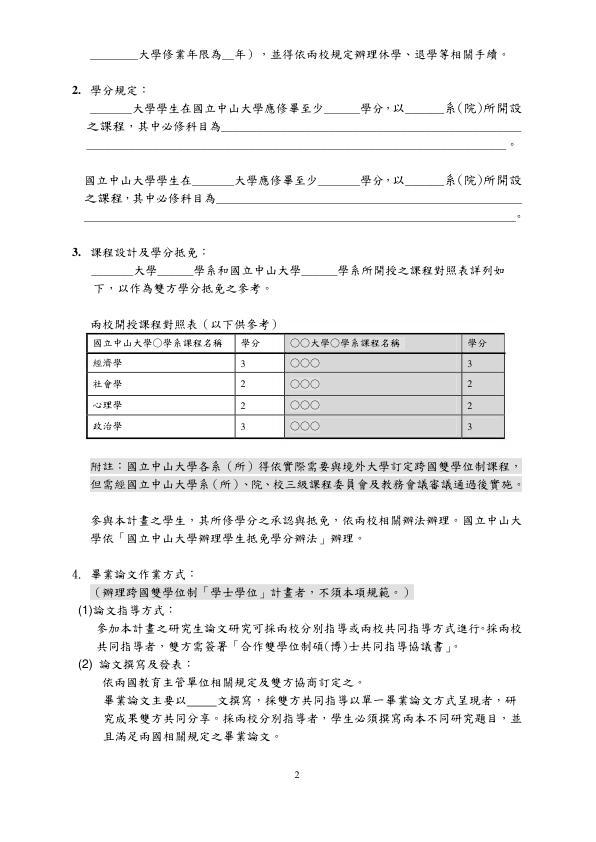input: (82, 135, 514, 154), (82, 210, 515, 225), (222, 120, 522, 134), (219, 194, 522, 207), (88, 44, 140, 65), (320, 167, 362, 193), (406, 173, 444, 193), (303, 260, 335, 280), (89, 100, 130, 115), (92, 265, 135, 279), (194, 173, 231, 189), (156, 261, 188, 279), (325, 100, 358, 117), (407, 102, 442, 118), (188, 692, 215, 710), (222, 43, 234, 65)
table: (84, 331, 508, 442)
text: (76, 604, 523, 655), (85, 511, 523, 548), (90, 459, 522, 494), (99, 711, 524, 744), (78, 657, 366, 690), (91, 587, 415, 601), (217, 693, 519, 707), (235, 46, 508, 60), (337, 260, 509, 280), (87, 315, 277, 331), (133, 100, 322, 116), (93, 281, 273, 297), (83, 116, 219, 134), (68, 245, 209, 260), (140, 38, 219, 64), (194, 262, 301, 280), (70, 567, 196, 582), (446, 170, 525, 191), (82, 193, 215, 205), (67, 80, 150, 97), (84, 174, 190, 187), (233, 173, 318, 188), (445, 100, 524, 116), (100, 693, 185, 707), (361, 99, 404, 116), (362, 172, 403, 188), (134, 260, 155, 279)
